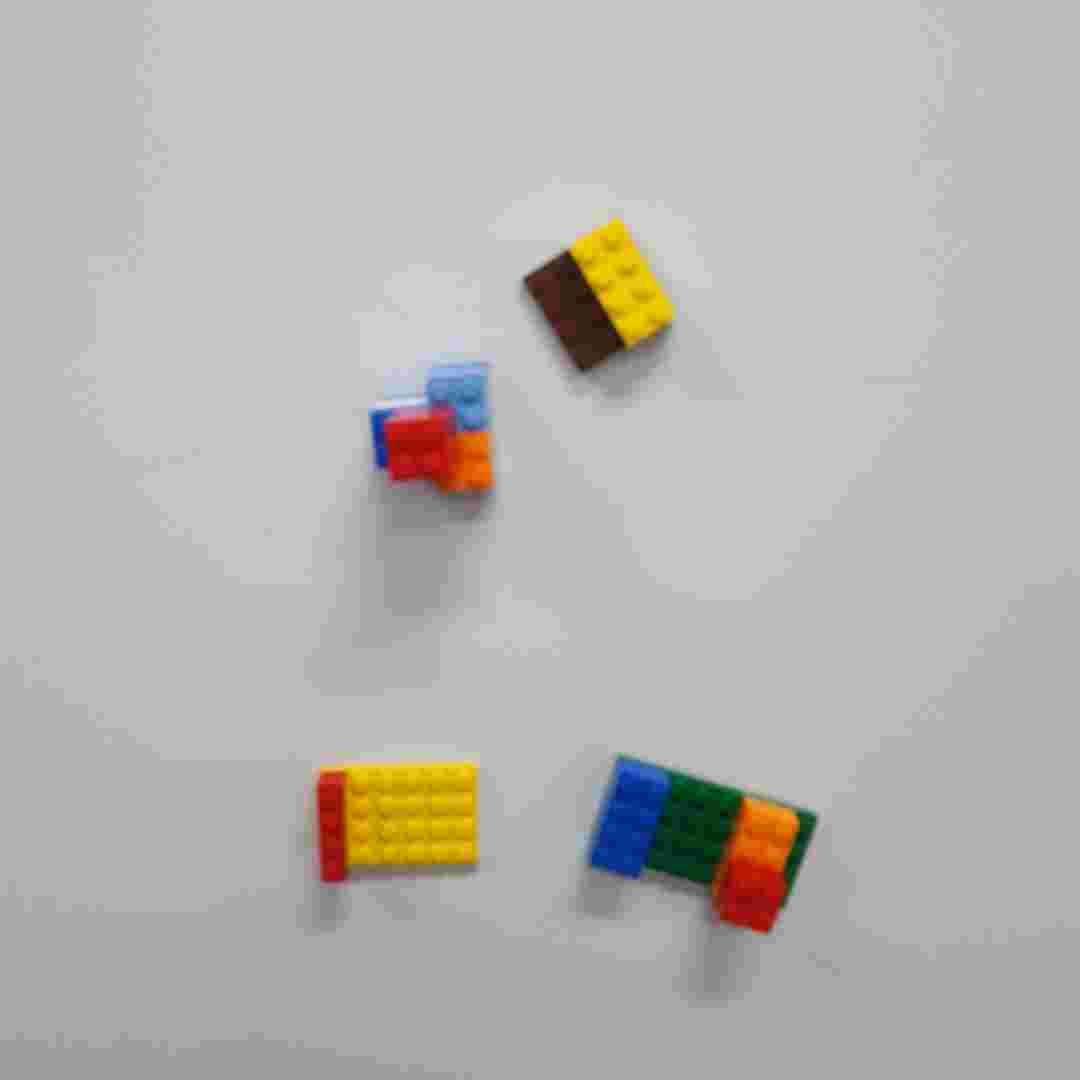LEGO: (583, 753, 822, 935), (515, 212, 686, 381), (310, 753, 485, 880), (365, 362, 502, 499)
